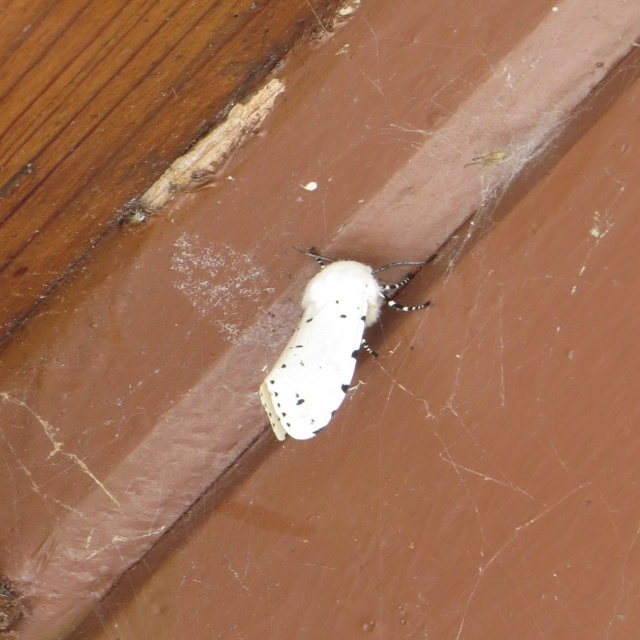Moths and butterflies: (256, 244, 433, 441)
